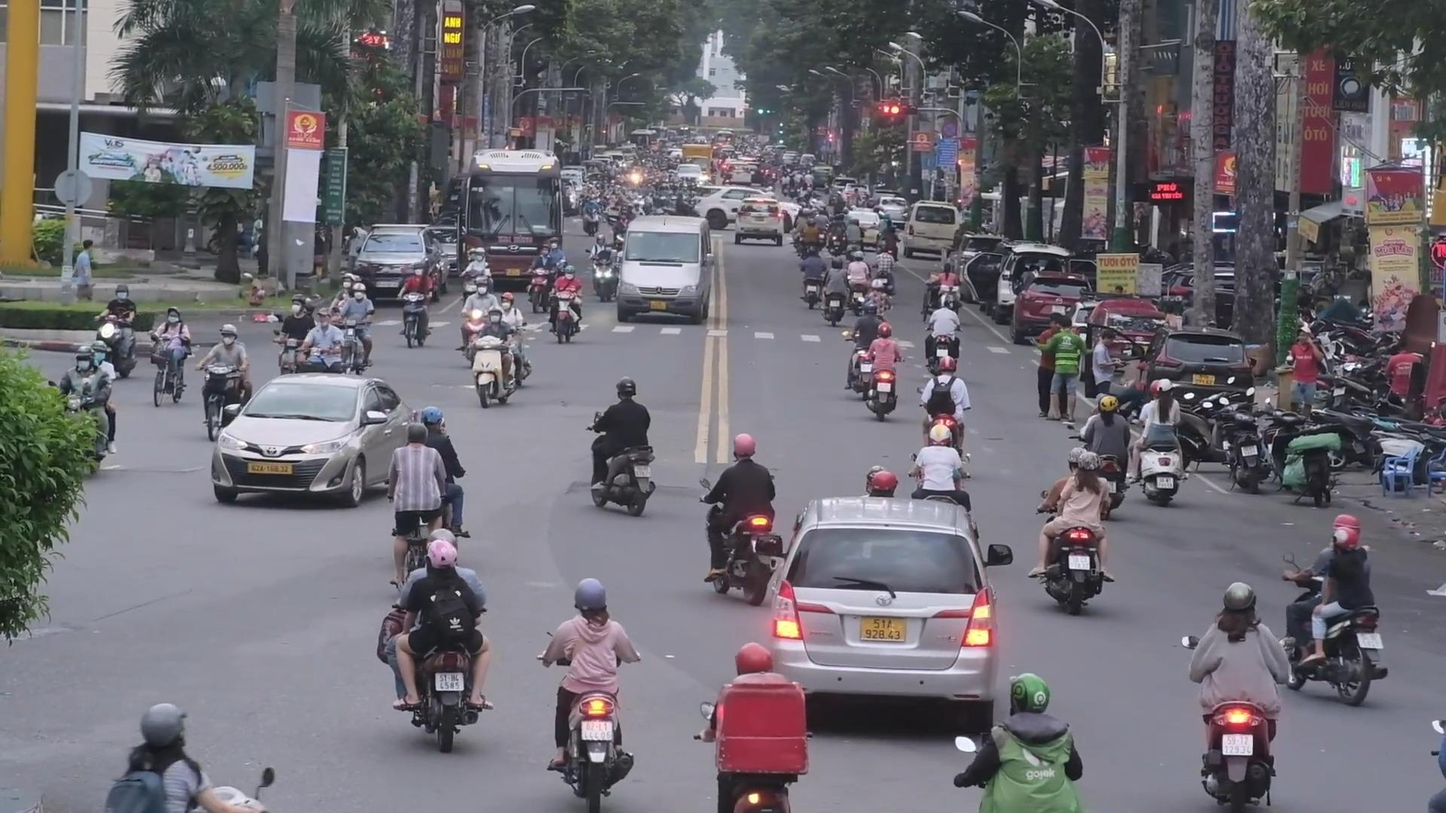bicyclist: (148, 305, 192, 407)
driver: (1180, 581, 1299, 813), (375, 529, 495, 755), (537, 577, 641, 813), (1281, 513, 1389, 706), (693, 642, 814, 813), (103, 703, 274, 813), (954, 671, 1083, 813), (1027, 447, 1115, 615), (699, 433, 783, 606), (585, 376, 656, 516), (1126, 379, 1189, 507), (194, 324, 252, 442), (907, 423, 971, 514), (466, 305, 516, 409), (93, 284, 140, 379), (863, 322, 906, 422), (845, 301, 883, 394), (924, 293, 963, 376), (397, 262, 432, 349), (548, 265, 583, 344), (820, 257, 850, 326), (799, 246, 827, 310)
helmet: (139, 703, 188, 751), (1008, 671, 1050, 717), (573, 577, 607, 616), (734, 642, 773, 675), (1224, 582, 1256, 619), (426, 540, 458, 576), (1332, 526, 1359, 554), (732, 433, 756, 463), (871, 470, 898, 496), (1077, 452, 1101, 477), (421, 406, 443, 430), (616, 375, 636, 400), (929, 424, 951, 446), (220, 324, 237, 346), (1099, 395, 1119, 413), (939, 356, 956, 375), (487, 305, 503, 324), (291, 294, 306, 314), (352, 282, 366, 301), (937, 294, 953, 309), (878, 323, 892, 339), (863, 301, 877, 316)
no-helmet: (408, 422, 428, 444), (1157, 379, 1175, 397), (317, 307, 332, 327)
